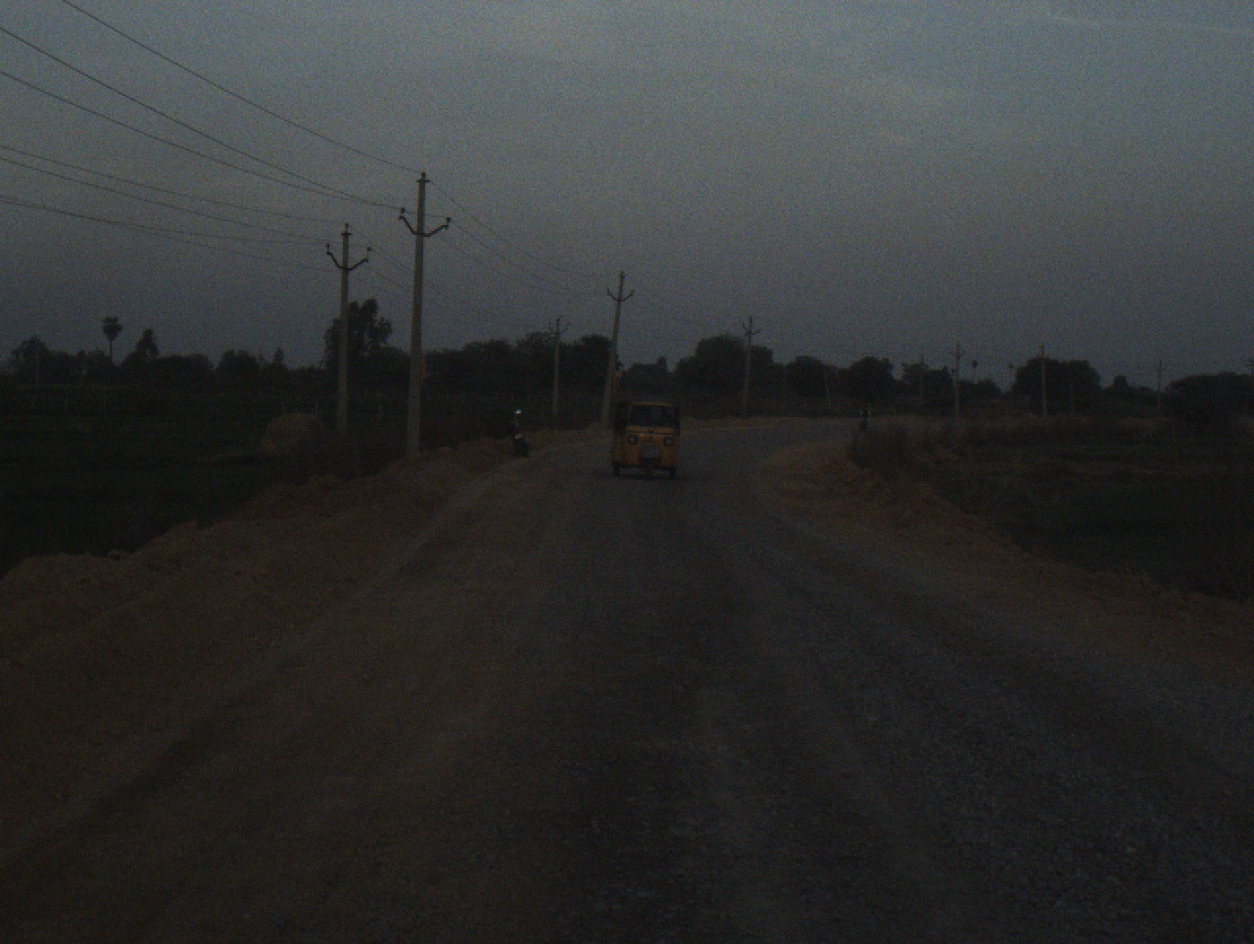autorickshaw: (606, 388, 689, 483)
motorcycle: (499, 404, 531, 463)
